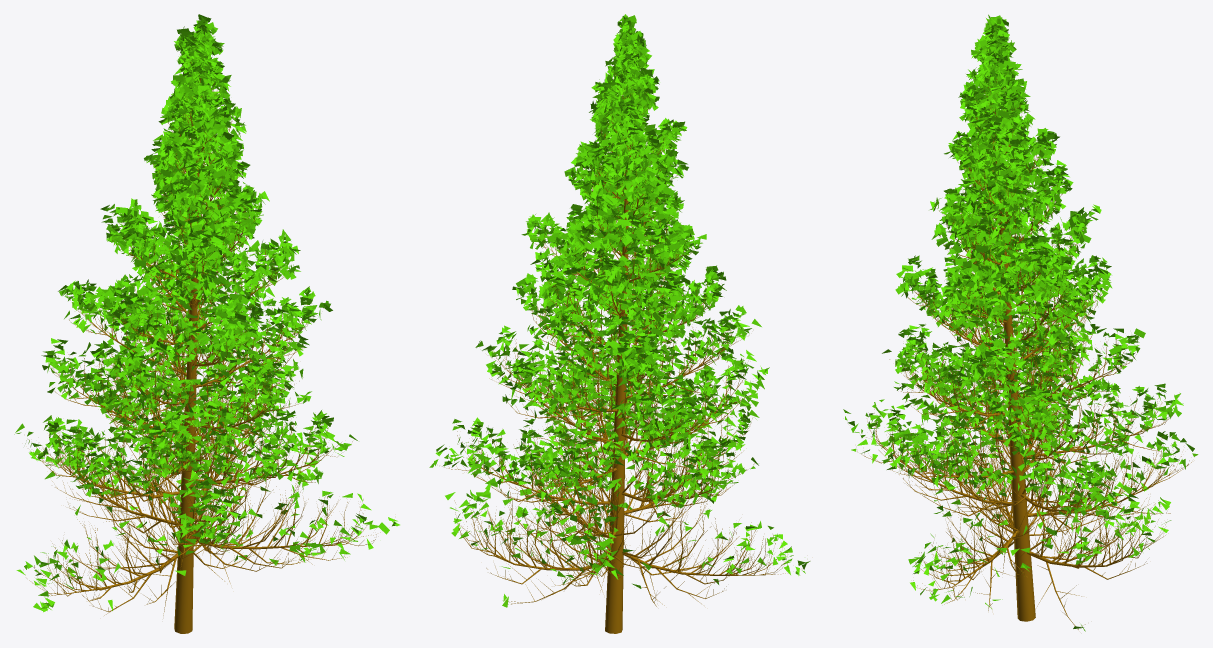
Rendered from Tree1.glb.
The picture shows the model from 3 angles, left to right: view 1: azimuth 30°, elevation 25°; view 2: azimuth 150°, elevation 25°; view 3: azimuth 270°, elevation 25°; orthographic projection. The views are drawn at different scales.
Parts seen in each view (by area): view 1: leaves.002, tree.002; view 2: leaves.002, tree.002; view 3: leaves.002, tree.002.
Part boxes in pixels (x1=…): leaves.002: x1=14, y1=14, x2=399, y2=612; tree.002: x1=28, y1=55, x2=394, y2=633; leaves.002: x1=429, y1=14, x2=810, y2=607; tree.002: x1=444, y1=70, x2=788, y2=633; leaves.002: x1=843, y1=14, x2=1198, y2=631; tree.002: x1=857, y1=59, x2=1191, y2=629.
Size of the model in its own units: 9.19 by 16 by 8.57.
